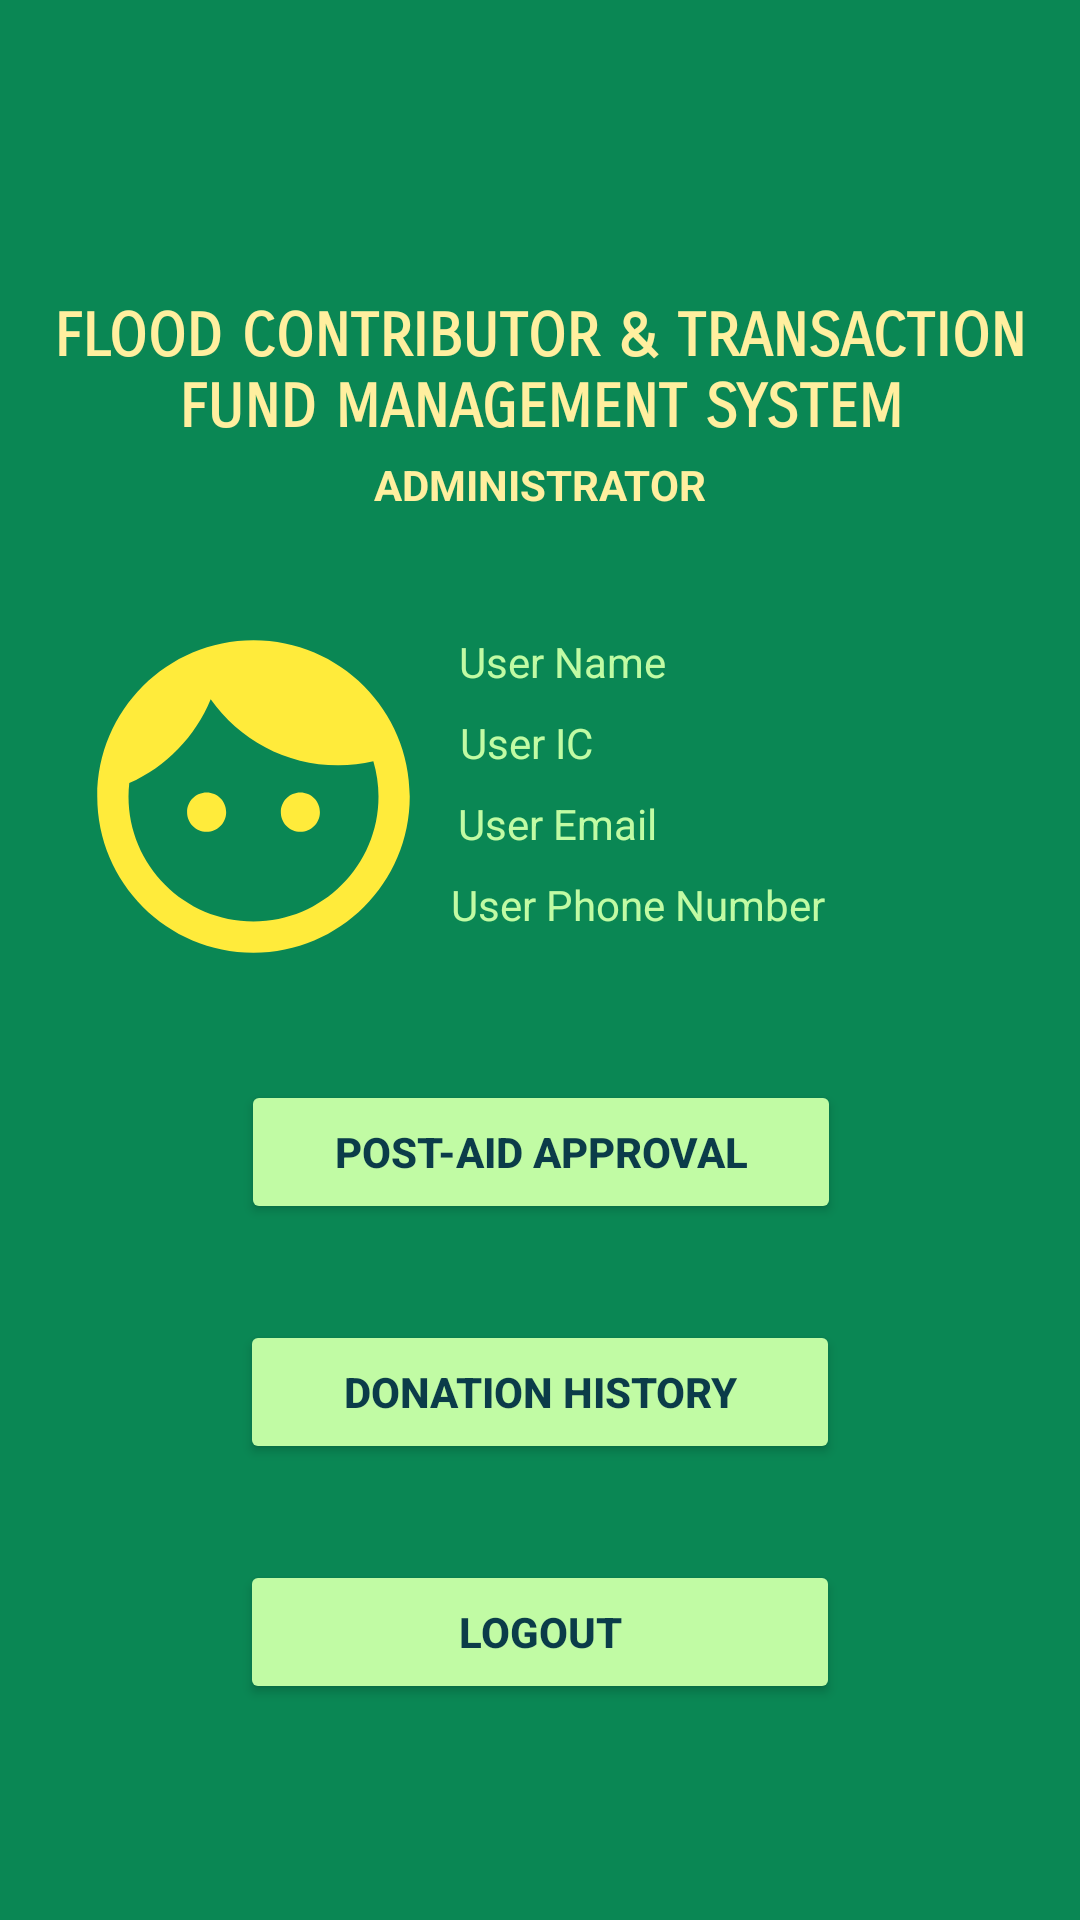

Screen size 1080px x 1920px. Icon name, then its center in pixels as point (x, y):
Profile Picture: point (253, 796)
